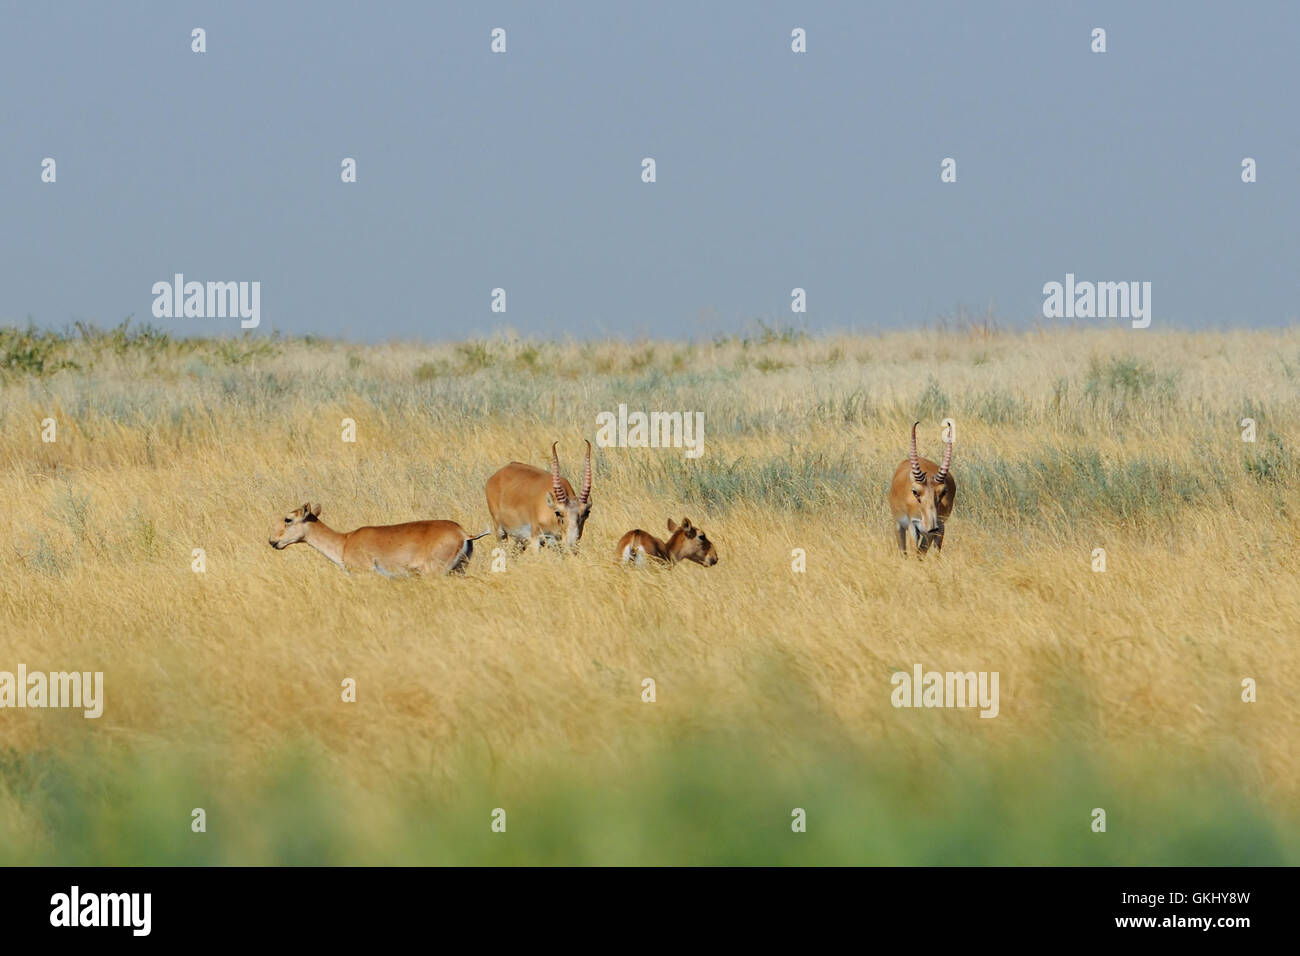saiga: (250, 500, 491, 607), (486, 423, 605, 553), (883, 422, 972, 562)
